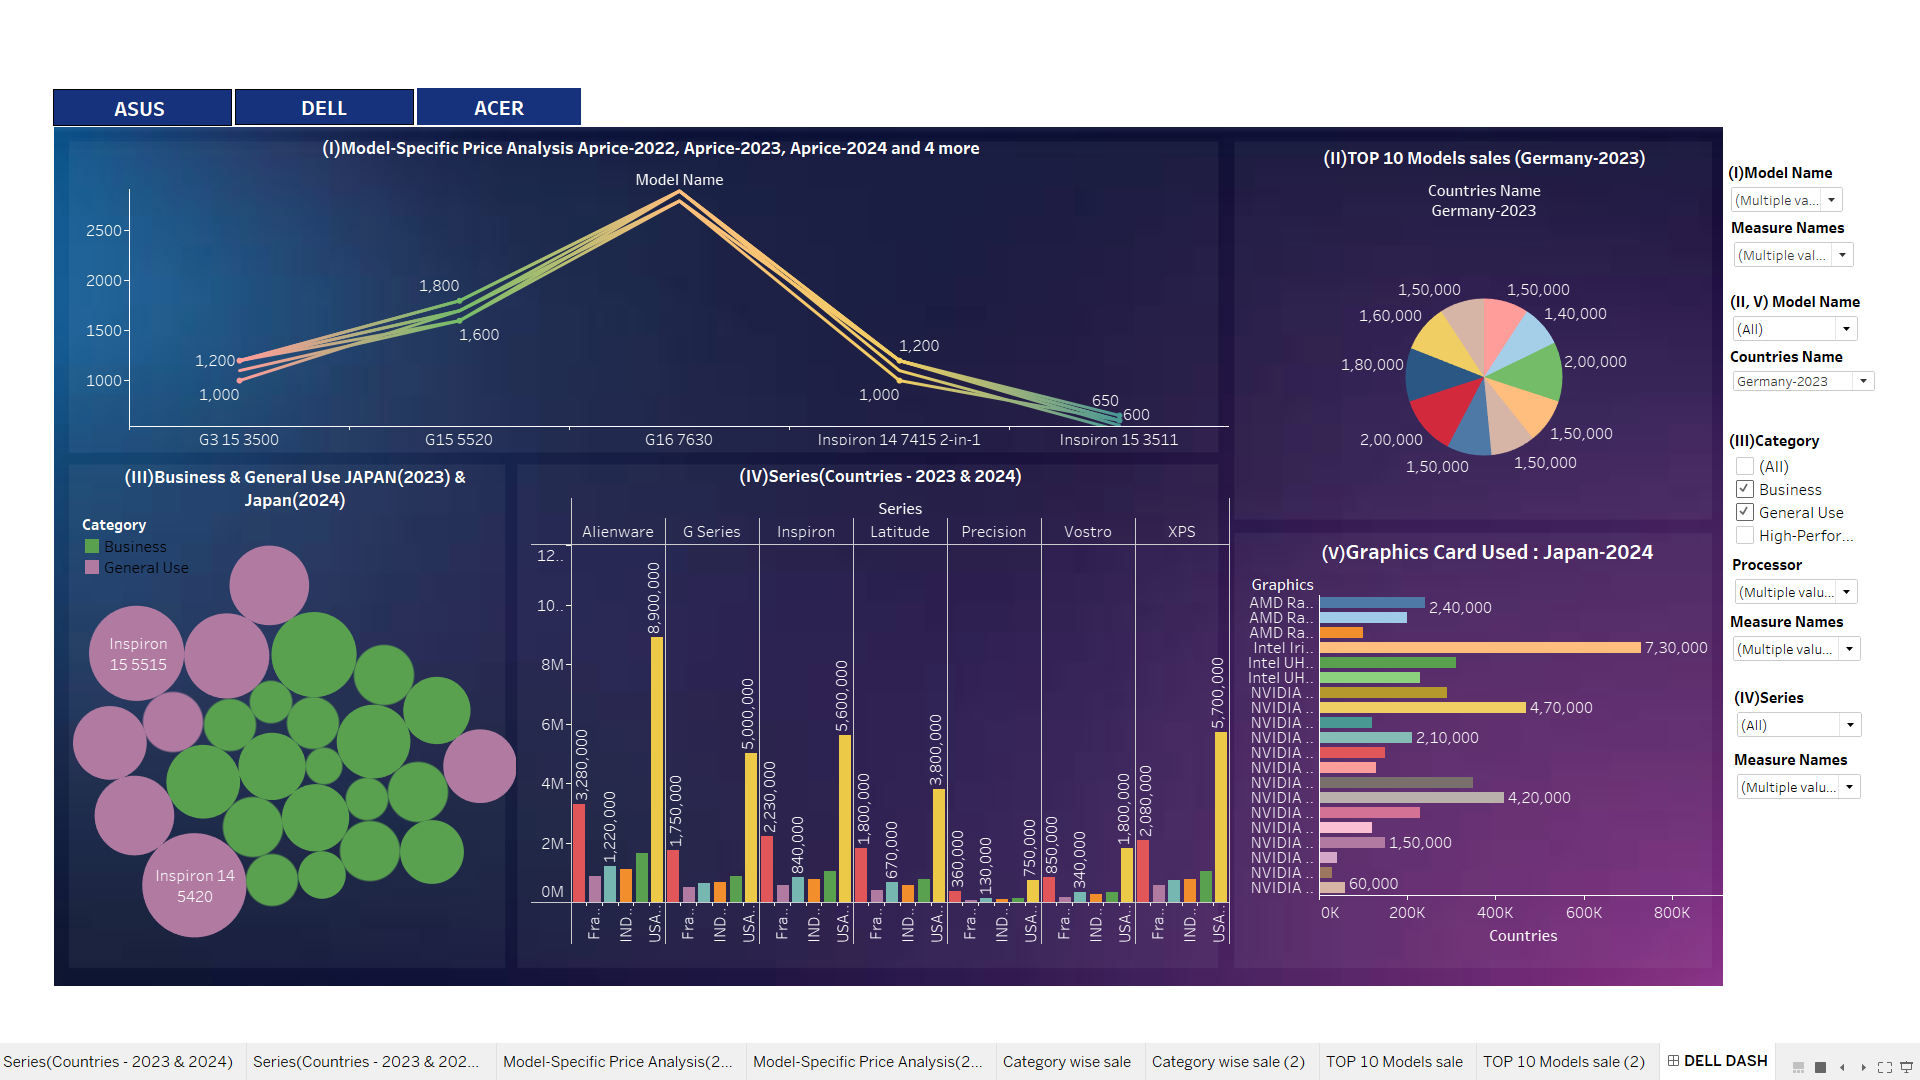

The dashboard page shown, as its layout file describes it:
{"tool":"tableau","page":{"name":"DELL DASH","canvas":[1800,900],"ordinal":2},"visuals":[{"type":"dashboard-object","box":[357,17,164,37]},{"type":"dashboard-object","box":[175,18,179,36]},{"type":"worksheet","title":"Model-Specific Price Analysis(2020)","mark":"Line","cols":["Model Name"],"box":[12.7,60.7,1156.2,312.9]},{"type":"worksheet","title":"TOP 10 Models sale","mark":"Pie","box":[1182.7,71.2,482.8,393.5]},{"type":"filter","title":"Model-Specific Price Analysis(2020)","param":"[federated.1wflxm90g1r9qg17gptqv15uctdx].[none:Model Name:nk]","box":[1668,91,118,56]},{"type":"filter","title":"Model-Specific Price Analysis(2020)","param":"[federated.1wflxm90g1r9qg17gptqv15uctdx].[:Measure Names]","box":[1671,146,126,57]},{"type":"filter","title":"TOP 10 Models sale","param":"[federated.1wflxm90g1r9qg17gptqv15uctdx].[none:Model Name:nk]","box":[1670,220,131,58]},{"type":"filter","title":"Category wise sale","param":"[federated.1wflxm90g1r9qg17gptqv15uctdx].[none:Category:nk]","box":[1669,359,130,121]},{"type":"worksheet","title":"Series(Countries - 2023 & 2024)","mark":"Automatic","cols":["Series"],"box":[471.2,389.3,698.8,484.5]},{"type":"worksheet","title":"Category wise sale","mark":"Circle","box":[12.7,390.3,443.6,500.2]},{"type":"legend","title":"Category wise sale","param":"[federated.1wflxm90g1r9qg17gptqv15uctdx].[none:Category:nk]","box":[22.2,442.7,126,92.1]},{"type":"worksheet","title":"Graphics card used(Countries - 2023&2024)","mark":"Automatic","rows":["Graphics"],"cols":["Calculation_895371962980163586"],"box":[1186.9,461.5,480.7,413.4]},{"type":"filter","title":"Category wise sale","param":"[federated.1wflxm90g1r9qg17gptqv15uctdx].[none:Processor:nk]","box":[1672,483,129,57]},{"type":"filter","title":"Category wise sale","param":"[federated.1wflxm90g1r9qg17gptqv15uctdx].[:Measure Names]","box":[1670,540,134,57]},{"type":"filter","title":"Series(Countries - 2023 & 2024)","param":"[federated.1wflxm90g1r9qg17gptqv15uctdx].[none:Series:nk]","box":[1674,616,131,58]},{"type":"filter","title":"Series(Countries - 2023 & 2024)","param":"[federated.1wflxm90g1r9qg17gptqv15uctdx].[:Measure Names]","box":[1674,678,130,53]}]}

Visuals, with their boxes on the page's 1800x900 design canvas (x1, y1, x2, y2). These are canvas units, not pixel positions in the 1920x1080 screenshot, which may show the page scaled, cropped or inside an application window:
dashboard-object: [357, 17, 521, 54]
dashboard-object: [175, 18, 354, 54]
"Model-Specific Price Analysis(2020)" worksheet (Line marks): [13, 61, 1169, 374]
"TOP 10 Models sale" worksheet (Pie marks): [1183, 71, 1666, 465]
"Model-Specific Price Analysis(2020)" filter: [1668, 91, 1786, 147]
"Model-Specific Price Analysis(2020)" filter: [1671, 146, 1797, 203]
"TOP 10 Models sale" filter: [1670, 220, 1801, 278]
"Category wise sale" filter: [1669, 359, 1799, 480]
"Series(Countries - 2023 & 2024)" worksheet: [471, 389, 1170, 874]
"Category wise sale" worksheet (Circle marks): [13, 390, 456, 890]
"Category wise sale" legend: [22, 443, 148, 535]
"Graphics card used(Countries - 2023&2024)" worksheet: [1187, 462, 1668, 875]
"Category wise sale" filter: [1672, 483, 1801, 540]
"Category wise sale" filter: [1670, 540, 1804, 597]
"Series(Countries - 2023 & 2024)" filter: [1674, 616, 1805, 674]
"Series(Countries - 2023 & 2024)" filter: [1674, 678, 1804, 731]
